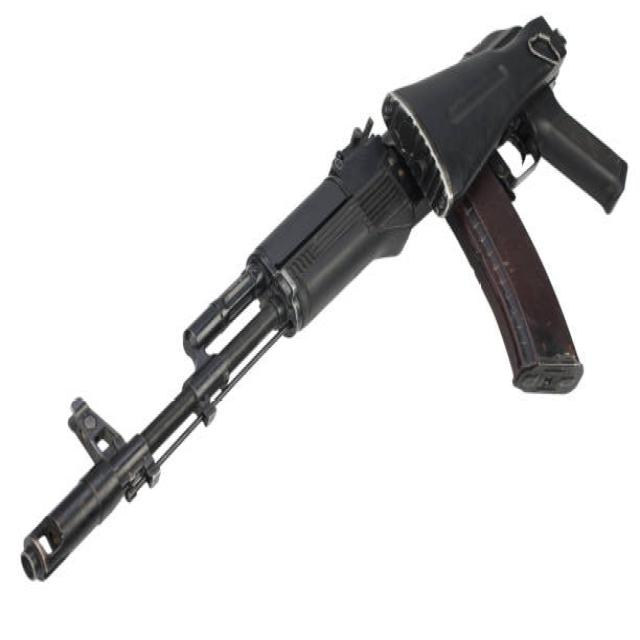rifle: (16, 6, 636, 592)
